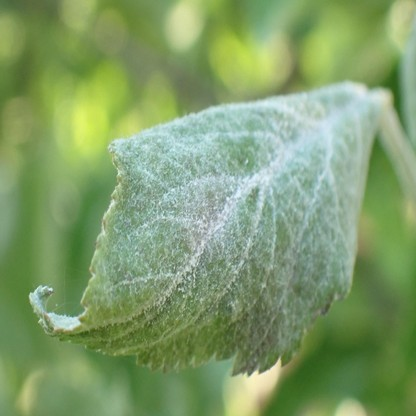powder: (28, 82, 378, 379)
